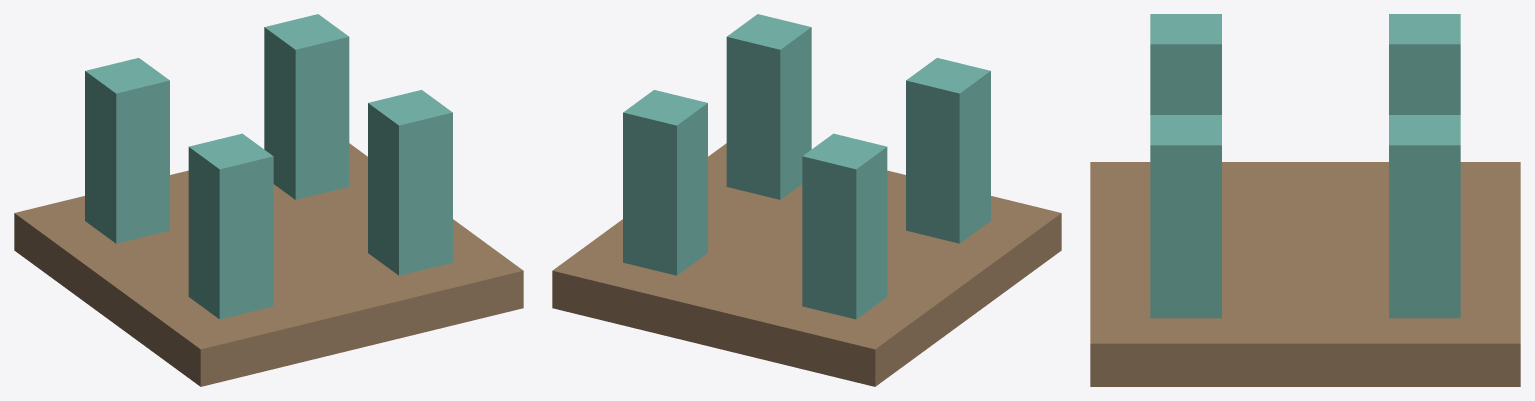
Rendered from Prop_DS_Crop_Kelpweed.glb.
The picture shows the model from 3 angles, left to right: view 1: azimuth 30°, elevation 25°; view 2: azimuth 150°, elevation 25°; view 3: azimuth 270°, elevation 25°; orthographic projection. The views are drawn at different scales.
Visible parts, largest first — view 1: Cube, Cube.001, Cube.003, Cube.002, Cube.004; view 2: Cube, Cube.002, Cube.004, Cube.001, Cube.003; view 3: Cube, Cube.003, Cube.004, Cube.001, Cube.002.
Part boxes in pixels (x1,y1,x2,y2): Cube: (14,143,523,386); Cube.001: (188,133,273,319); Cube.003: (368,90,452,275); Cube.002: (85,58,169,243); Cube.004: (264,14,349,199); Cube: (552,143,1061,386); Cube.002: (802,133,887,319); Cube.004: (623,90,707,275); Cube.001: (906,58,990,243); Cube.003: (726,14,811,199); Cube: (1090,162,1520,386); Cube.003: (1150,115,1221,318); Cube.004: (1389,115,1460,318); Cube.001: (1150,14,1221,114); Cube.002: (1389,14,1460,114).
Size of the model in its own units: 0.9 by 0.5 by 0.9.
